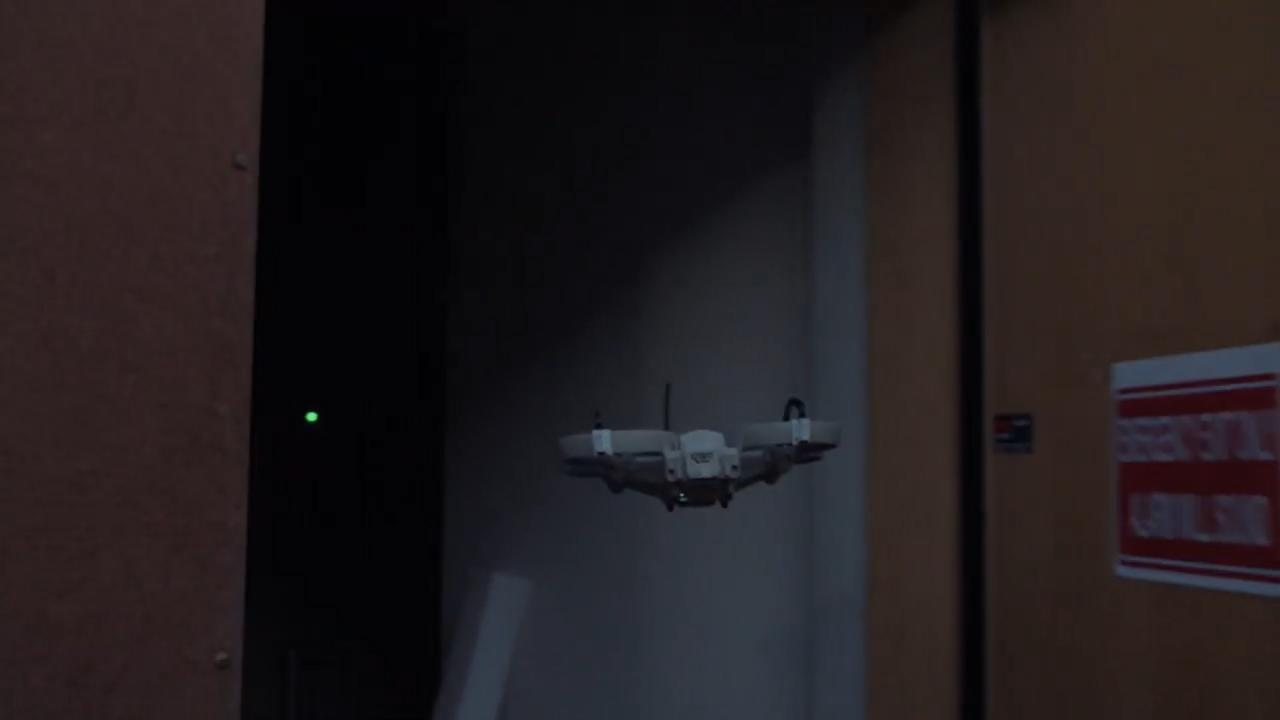Drone: (540, 365, 862, 535)
